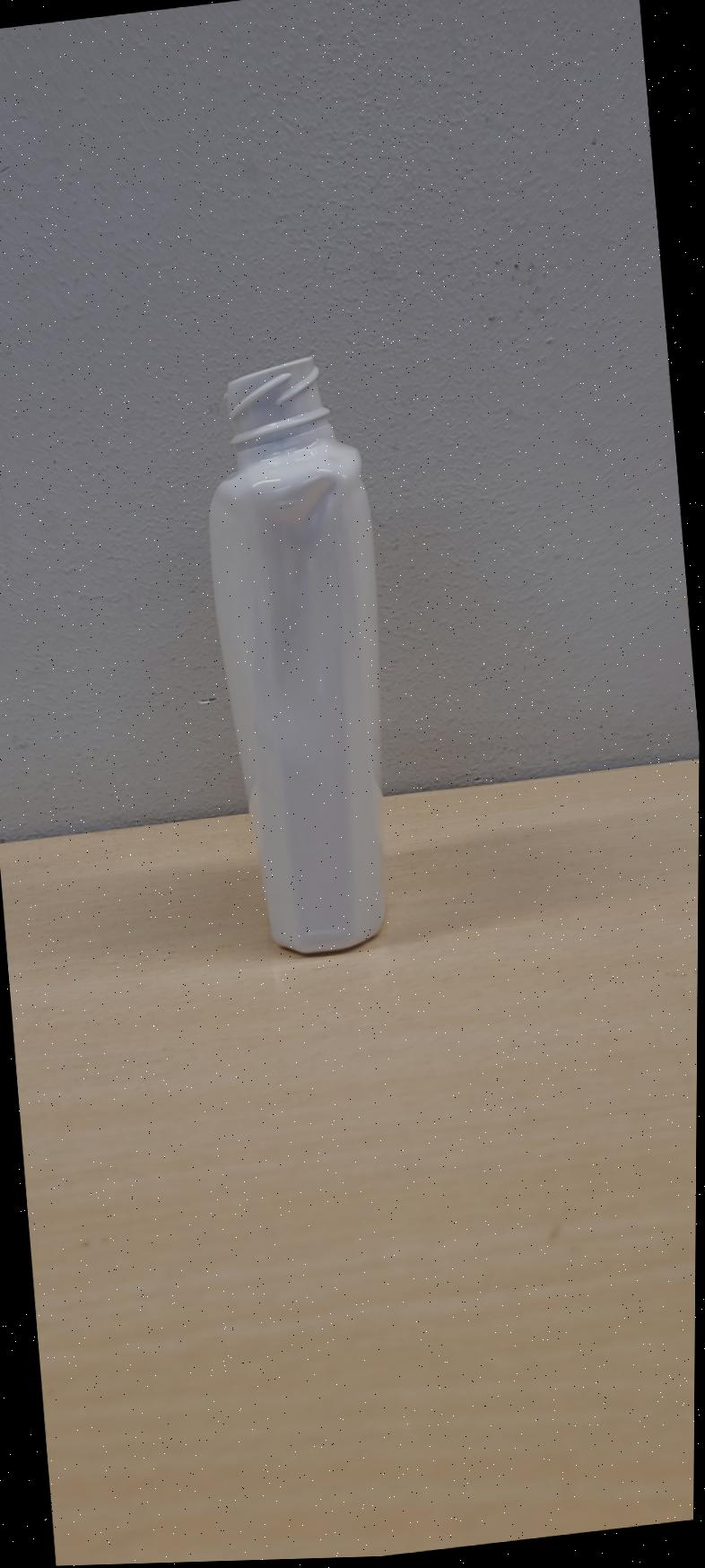bottle: (209, 356, 385, 953)
